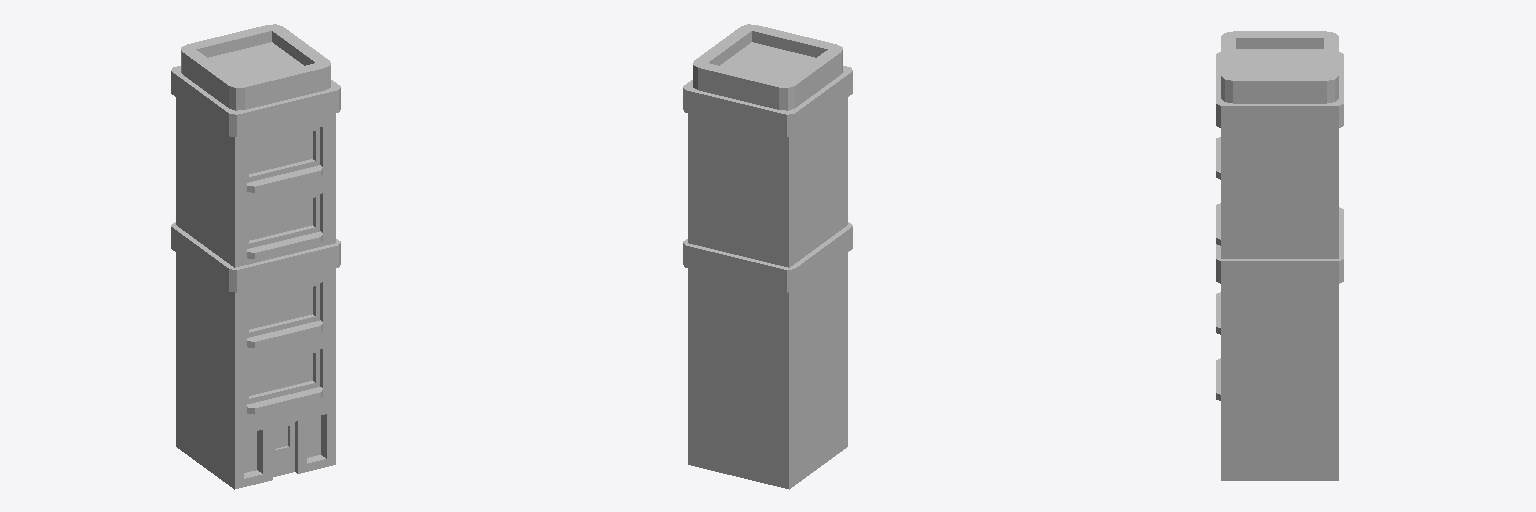
File: building-sample-tower-d.obj
3 renders of one model, left to right at view 1: azimuth 30°, elevation 25°; view 2: azimuth 150°, elevation 25°; view 3: azimuth 270°, elevation 25°, orthographic.
Parts seen in each view (by area): view 1: building-sample-tower-d; view 2: building-sample-tower-d; view 3: building-sample-tower-d.
Part boxes in pixels (left/top/right/bottom): building-sample-tower-d: left=171, top=24, right=340, bottom=489; building-sample-tower-d: left=683, top=24, right=852, bottom=489; building-sample-tower-d: left=1216, top=31, right=1343, bottom=480.
Bounding box in the file's own units: 1.1 × 3.76 × 1.1.